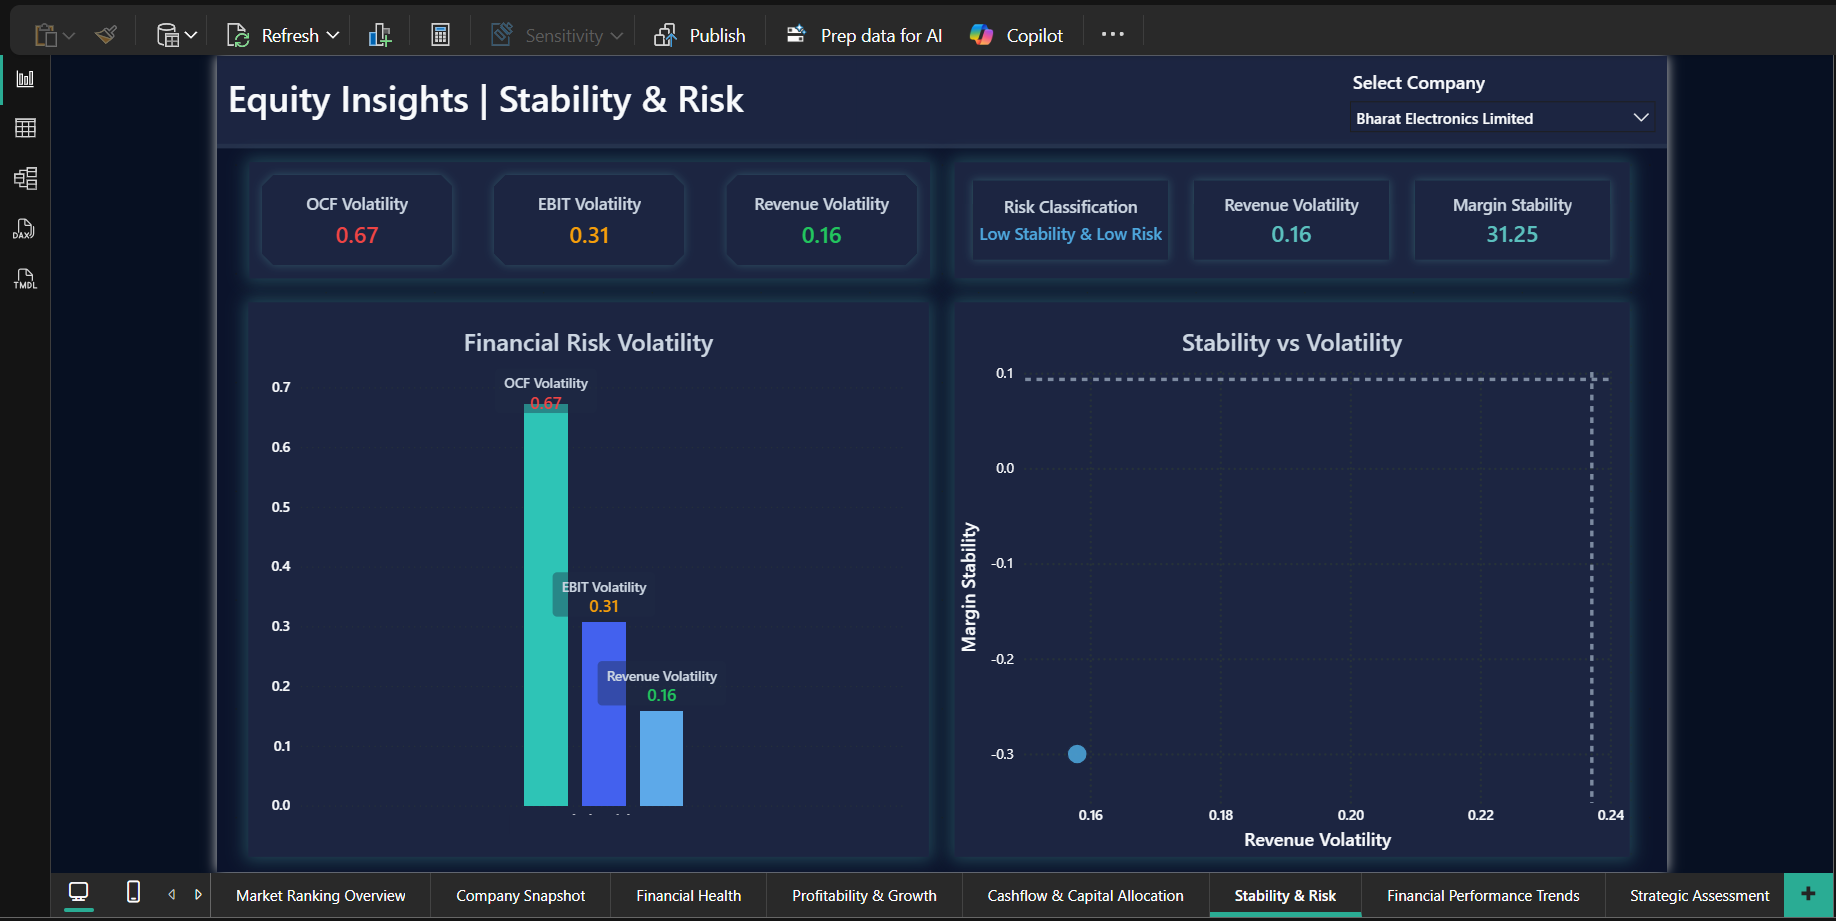

Layout of this report page (visuals, bound fields, positions):
{"tool":"powerbi","page":{"name":"Stability & Risk","canvas":[1280,720],"ordinal":5},"visuals":[{"type":"shape","box":[0,0,1280,80],"z":0,"group":"g2"},{"type":"clusteredColumnChart","title":"Financial Risk Volatility","fields":{"Category":["gold_equity_derivedmetrics.sector"],"Y":["Sum(gold_equity_derivedmetrics.ocf_volatility)","Sum(gold_equity_derivedmetrics.ebit_volatility)","Sum(gold_equity_derivedmetrics.revenue_volatility)"]},"box":[28,217.8,600.9,489.5],"z":0},{"type":"textbox","box":[4,0,560,80],"z":1000,"group":"g2"},{"type":"group","id":"g1","title":"Group 1","box":[651.4,217.6,596.1,489.5],"z":1000},{"type":"group","id":"g2","title":"Group 1","box":[0,0,1280,93.3],"z":2000},{"type":"slicer","fields":{"Values":["gold_equity_basemetrics.company_name"]},"box":[990,0,290,80],"z":2000,"group":"g2"},{"type":"scatterChart","title":"Stability vs Volatility","fields":{"X":["Sum(gold_equity_derivedmetrics.revenue_volatility)"],"Category":["gold_equity_derivedmetrics.symbol"],"Y":["Sum(gold_equity_derivedmetrics.margin_stability_zscore)"],"Series":["gold_equity_derivedmetrics.risk_classification"]},"box":[651.4,217.6,596.1,489.5],"z":2000,"group":"g1"},{"type":"cardVisual","fields":{"Data":["Sum(gold_equity_derivedmetrics.ocf_volatility)","Sum(gold_equity_derivedmetrics.ebit_volatility)","Sum(gold_equity_derivedmetrics.revenue_volatility)"]},"box":[28.3,93.5,600.6,102.2],"z":3000},{"type":"shape","box":[0,66.7,1280,26.7],"z":4000,"group":"g2"},{"type":"cardVisual","fields":{"Data":["Min(gold_equity_derivedmetrics.risk_classification)","Sum(gold_equity_derivedmetrics.revenue_volatility)","Max(gold_equity_derivedmetrics.margin_stability)"]},"box":[651.1,93.5,595.7,102.2],"z":4000},{"type":"shape","box":[258.5,669.5,161.2,17.2],"z":5000}]}

Visuals, with their boxes on the page's 1280x720 design canvas (x1, y1, x2, y2). These are canvas units, not pixel positions in the 1836x921 screenshot, which may show the page scaled, cropped or inside an application window:
shape: [0, 0, 1280, 80]
"Financial Risk Volatility" clusteredColumnChart: [28, 218, 629, 707]
textbox: [4, 0, 564, 80]
"Group 1" group: [651, 218, 1248, 707]
"Group 1" group: [0, 0, 1280, 93]
slicer - gold_equity_basemetrics.company_name: [990, 0, 1280, 80]
"Stability vs Volatility" scatterChart: [651, 218, 1248, 707]
cardVisual - Sum(gold_equity_derivedmetrics.ocf_volatility) x Sum(gold_equity_derivedmetrics.ebit_volatility): [28, 94, 629, 196]
shape: [0, 67, 1280, 93]
cardVisual - Min(gold_equity_derivedmetrics.risk_classification) x Sum(gold_equity_derivedmetrics.revenue_volatility): [651, 94, 1247, 196]
shape: [258, 670, 420, 687]
